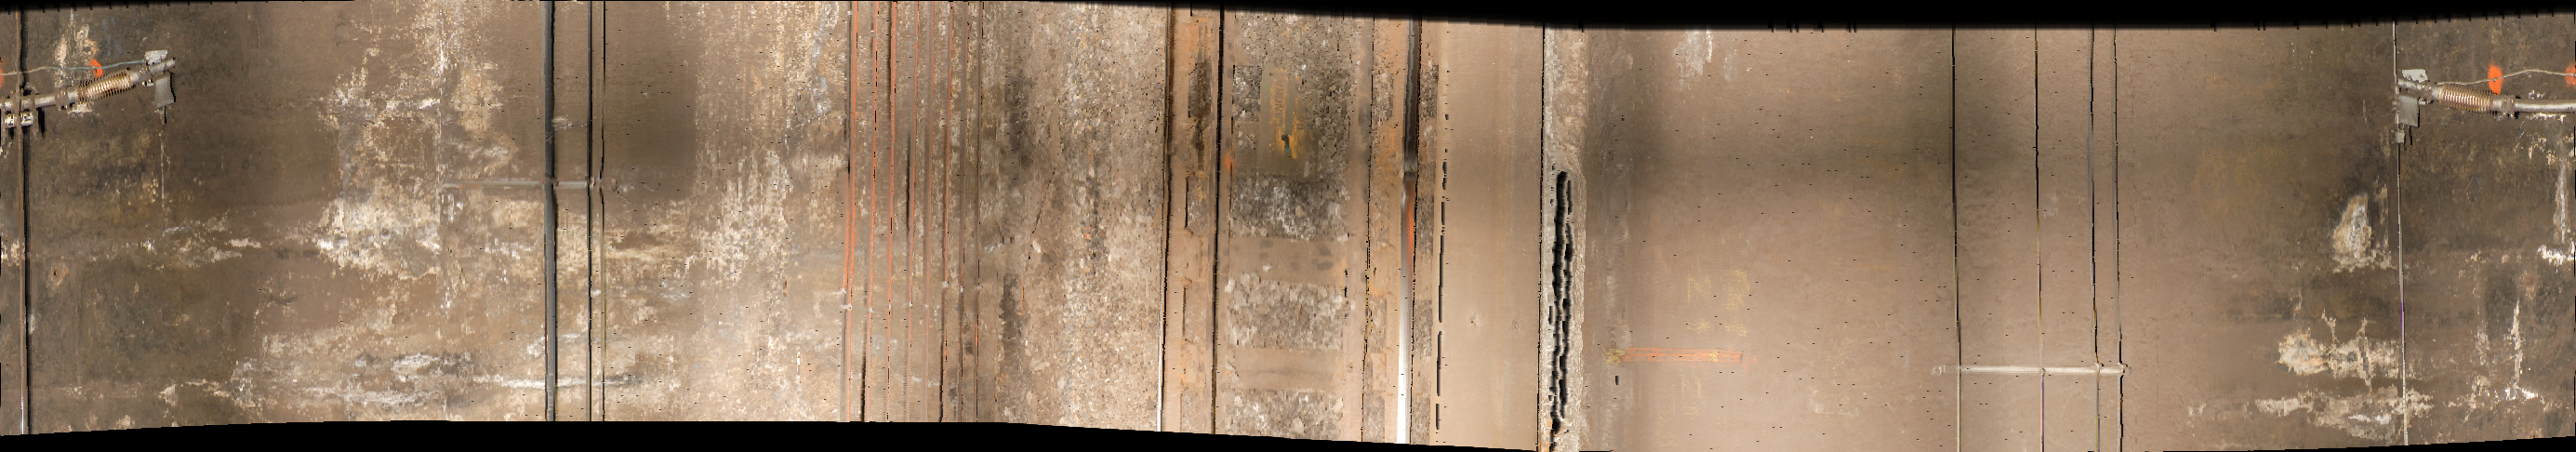pipes: (844, 8, 987, 452), (532, 5, 611, 452), (2081, 23, 2136, 452), (10, 23, 48, 452), (1935, 18, 1966, 452), (2385, 23, 2417, 452), (2026, 36, 2054, 452)
tracks: (1166, 2, 1548, 452)
